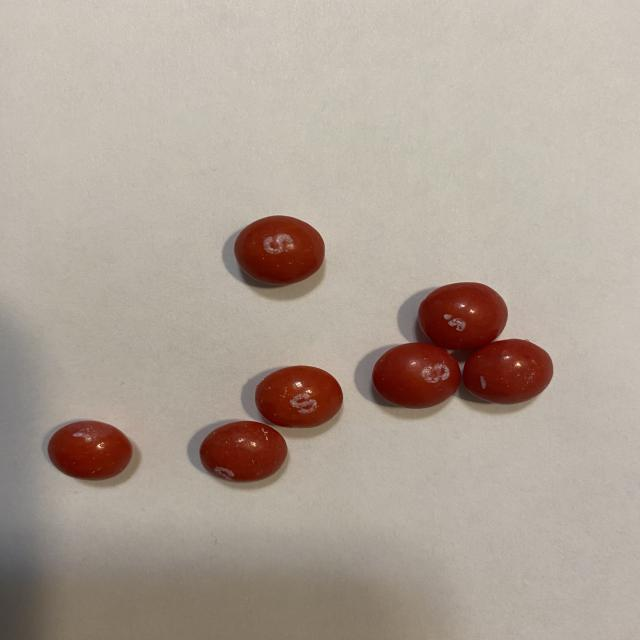smartie: (234, 215, 324, 284), (418, 282, 508, 350), (463, 339, 554, 405), (372, 343, 461, 409), (255, 366, 342, 428), (199, 421, 287, 482), (46, 421, 131, 481)
